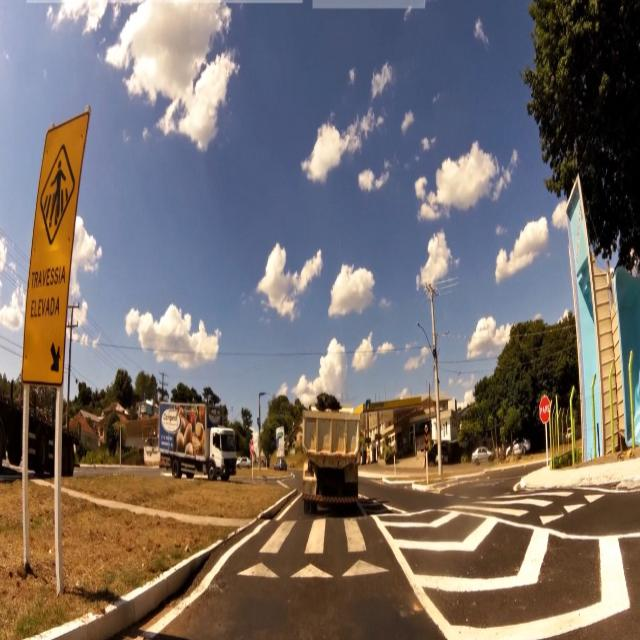A-32b: (42, 145, 73, 244)
R-1: (537, 395, 551, 424)
